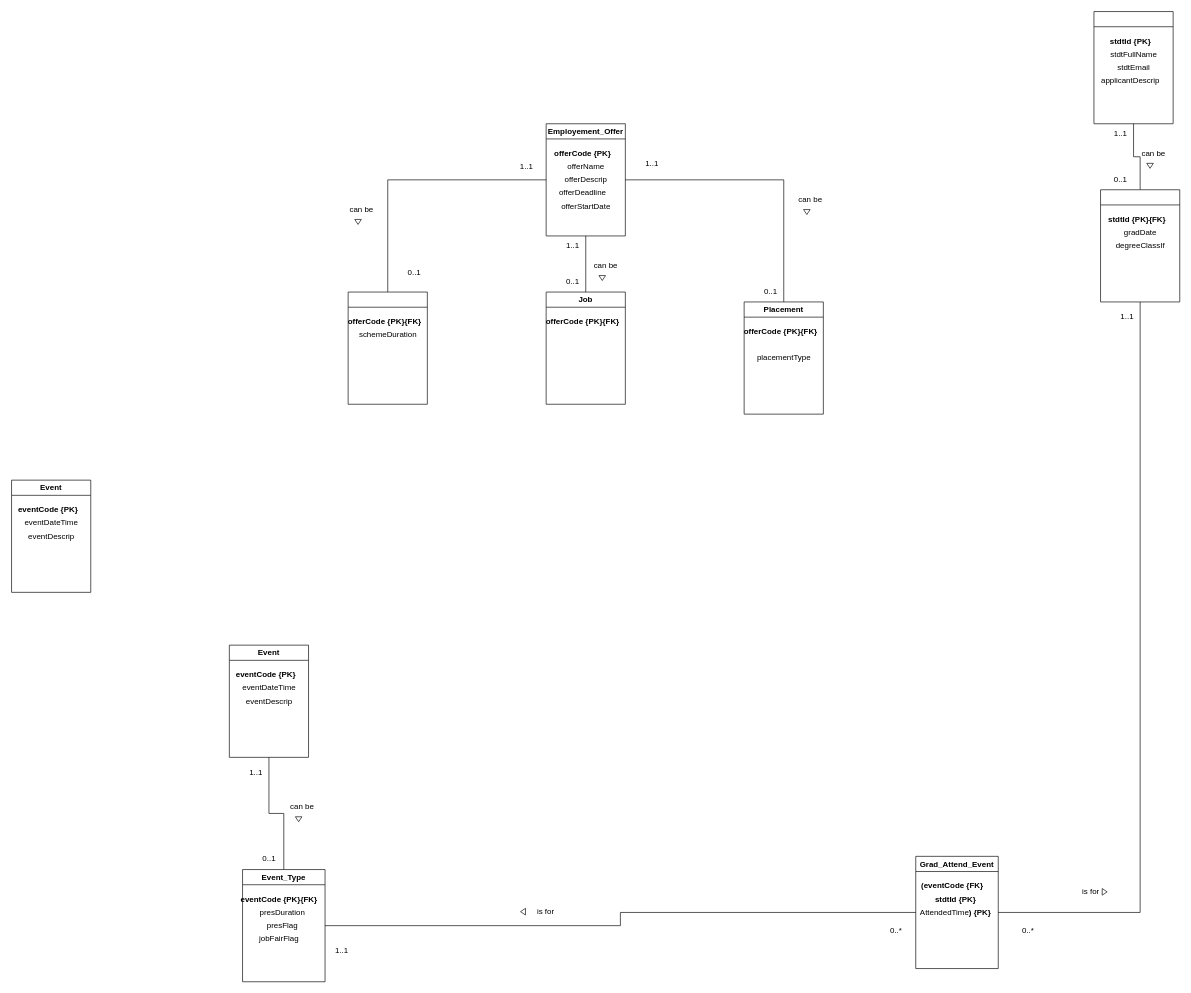
Image size: 1191x993. Some labels were removed from this diagram. Each missing label, with the box of its shape:
Grad_Scheme: (347, 291, 427, 404)
Graduate: (1100, 189, 1180, 302)
Student: (1093, 11, 1173, 124)
